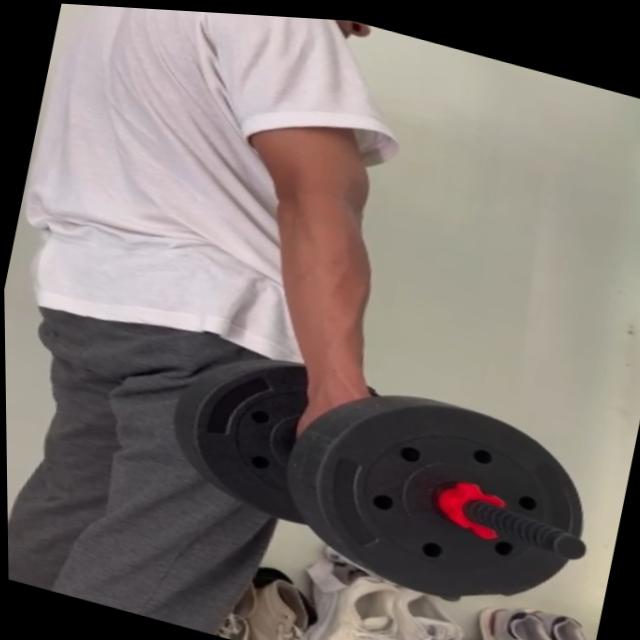dumbbell: (153, 329, 606, 632)
